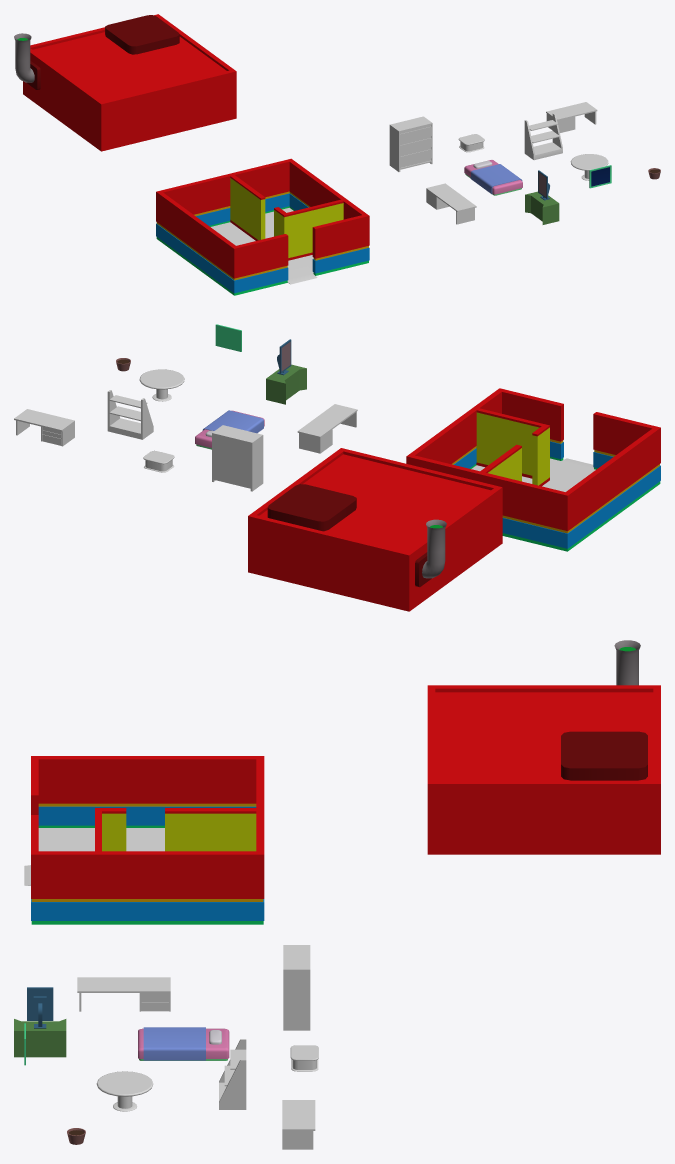
The model's file is SbS_House_A_Bake.fbx.
The picture shows the model from 3 angles, top to bottom: view 1: azimuth 30°, elevation 25°; view 2: azimuth 150°, elevation 25°; view 3: azimuth 270°, elevation 25°; orthographic projection. The views are drawn at different scales.
Parts seen in each view (by area): view 1: House_Roof, House_Wall, House_Separater, House_LargeChest, House_Floor, House_Bed, House_Hunger, House_Workbench, House_MirrotChest, House_Workbench_B, House_Table, House_Art; view 2: House_Roof, House_Wall, House_Separater, House_LargeChest, House_Workbench, House_Hunger, House_MirrotChest, House_Workbench_B, House_Floor, House_Bed, House_Table, House_Art (+1 smaller); view 3: House_Roof, House_Wall, House_Separater, House_Bed, House_MirrotChest, House_Floor, House_LargeChest, House_Workbench, House_Workbench_B, House_Hunger, House_Table, House_SideTable.
Part boxes in pixels (x1=…): House_Roof: x1=14, y1=14, x2=236, y2=151; House_Wall: x1=156, y1=158, x2=369, y2=295; House_Separater: x1=230, y1=175, x2=343, y2=260; House_LargeChest: x1=389, y1=116, x2=432, y2=171; House_Floor: x1=211, y1=207, x2=317, y2=284; House_Bed: x1=464, y1=160, x2=522, y2=195; House_Hunger: x1=524, y1=113, x2=562, y2=160; House_Workbench: x1=426, y1=183, x2=476, y2=224; House_MirrotChest: x1=525, y1=170, x2=559, y2=224; House_Workbench_B: x1=546, y1=102, x2=597, y2=132; House_Table: x1=570, y1=154, x2=608, y2=180; House_Art: x1=589, y1=165, x2=611, y2=188; House_Roof: x1=248, y1=448, x2=502, y2=611; House_Wall: x1=406, y1=388, x2=660, y2=551; House_Separater: x1=476, y1=408, x2=549, y2=486; House_LargeChest: x1=212, y1=425, x2=263, y2=491; House_Workbench: x1=297, y1=404, x2=357, y2=453; House_Hunger: x1=107, y1=390, x2=153, y2=439; House_MirrotChest: x1=266, y1=339, x2=306, y2=404; House_Workbench_B: x1=14, y1=409, x2=74, y2=446; House_Floor: x1=471, y1=458, x2=595, y2=491; House_Bed: x1=195, y1=410, x2=264, y2=449; House_Table: x1=139, y1=369, x2=184, y2=401; House_Art: x1=215, y1=324, x2=241, y2=351; House_Roof: x1=427, y1=640, x2=660, y2=854; House_Wall: x1=31, y1=756, x2=264, y2=924; House_Separater: x1=95, y1=808, x2=256, y2=851; House_Bed: x1=138, y1=1027, x2=229, y2=1060; House_MirrotChest: x1=14, y1=987, x2=66, y2=1057; House_Floor: x1=24, y1=828, x2=164, y2=885; House_LargeChest: x1=283, y1=945, x2=310, y2=1030; House_Workbench: x1=77, y1=977, x2=170, y2=1011; House_Workbench_B: x1=282, y1=1100, x2=315, y2=1149; House_Hunger: x1=219, y1=1039, x2=246, y2=1109; House_Table: x1=96, y1=1071, x2=153, y2=1111; House_SideTable: x1=290, y1=1045, x2=318, y2=1071.
Size of the model in its own units: 2067 by 489 by 1664.
